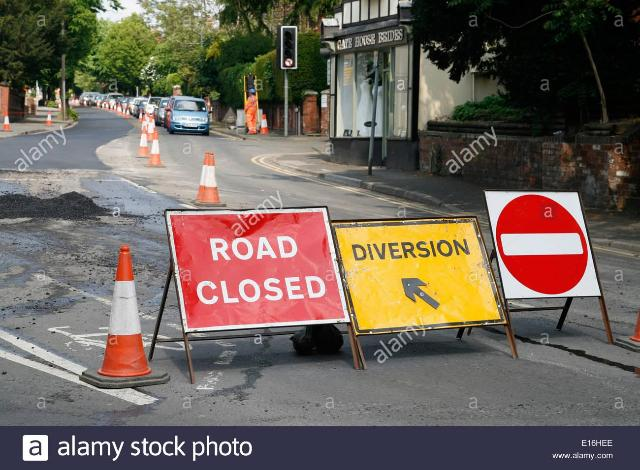B2: (483, 188, 602, 300)
